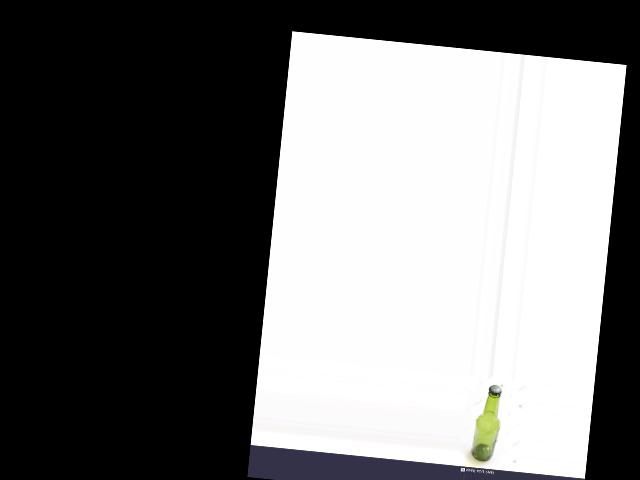beer: (471, 383, 502, 462)
